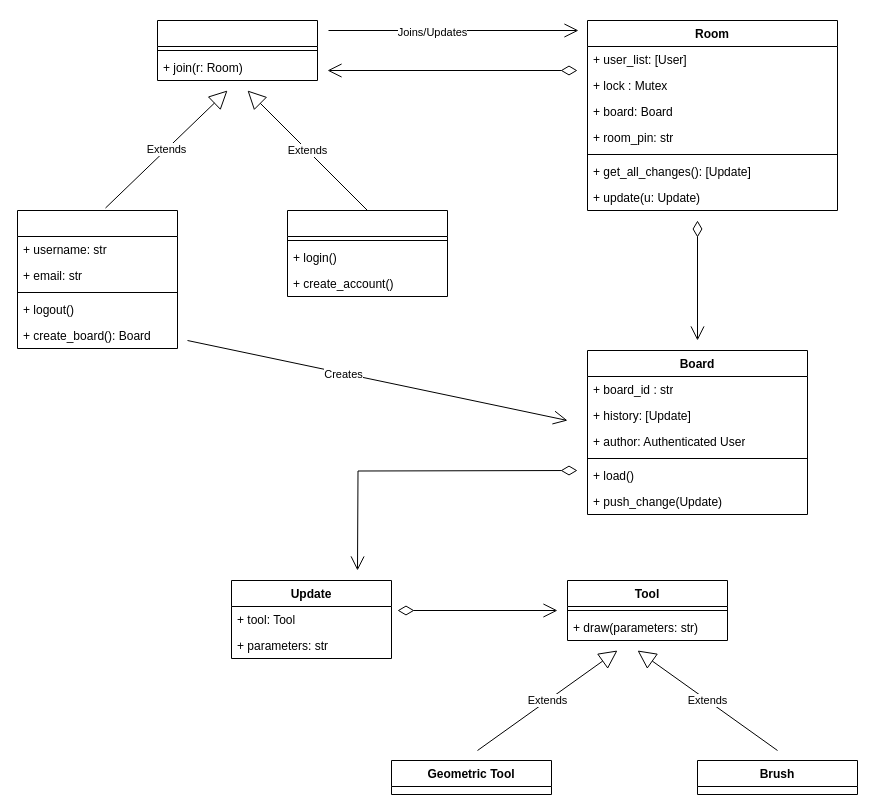
Some shapes in this 875 by 812 pixel diagram are drawn without their labels. Here are the shapes that lost their labels. From the top down, the box of each, then its label:
(156, 20, 318, 80): User
(286, 210, 448, 296): Non Authenticated User
(16, 210, 178, 348): Authenticated User
